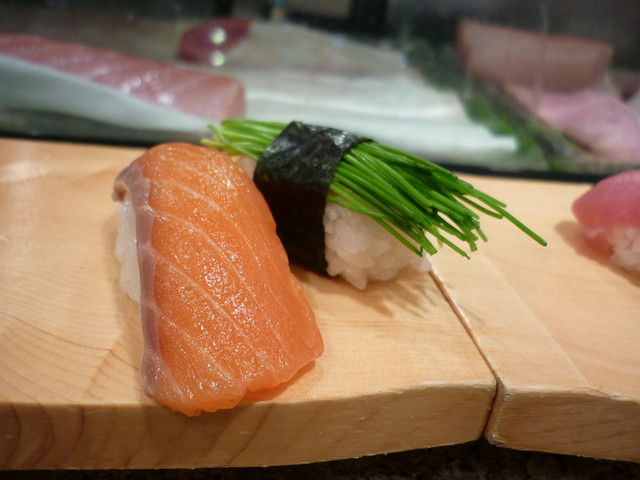salmon: (113, 140, 329, 411)
